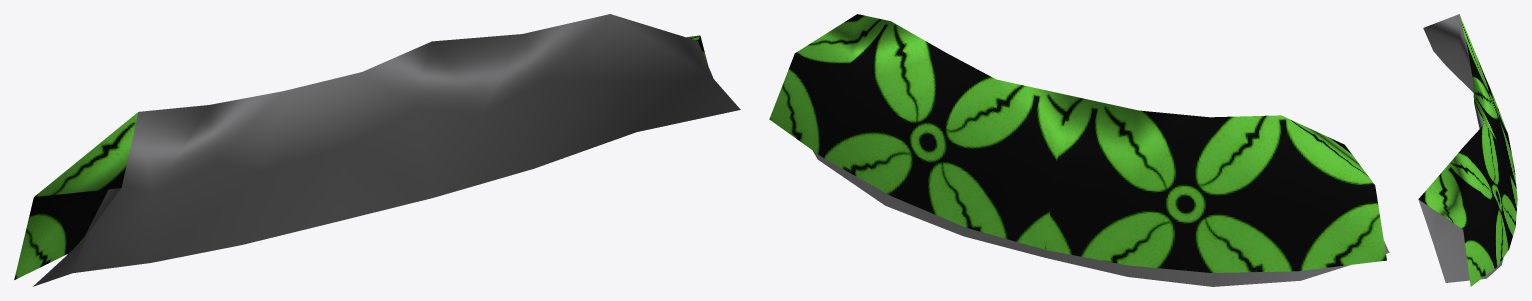
The model's file is Kerah.fbx.
3 renders of one model, left to right at view 1: azimuth 30°, elevation 25°; view 2: azimuth 150°, elevation 25°; view 3: azimuth 270°, elevation 25°, orthographic. The views are drawn at different scales.
Parts seen in each view (by area): view 1: Kerah.002; view 2: Kerah.002; view 3: Kerah.002.
Part boxes in pixels (bbox=[...]): Kerah.002: bbox=[14, 14, 740, 286]; Kerah.002: bbox=[769, 14, 1389, 286]; Kerah.002: bbox=[1418, 14, 1517, 286].
Size of the model in its own units: 145 by 37.87 by 27.34.
2 materials, 1 textured.
